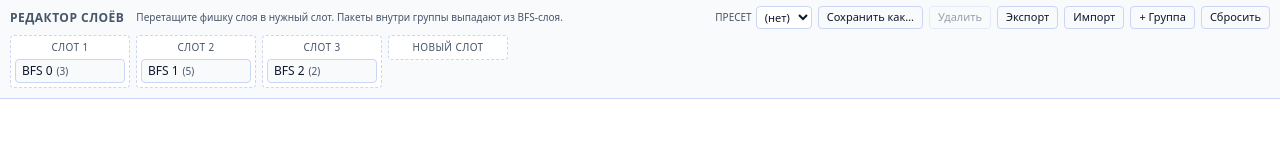
Test: <LayerEditorBar /> › adds a new folder group from the inline form
Click the button with test id "layer-editor-add" at {"x": 1163, "y": 18}, box [1130, 6, 1195, 29]
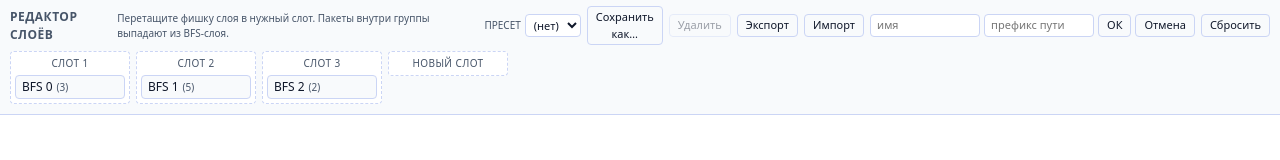
Type "DBs" into the field with test id "layer-editor-name" at {"x": 925, "y": 26}, box [870, 14, 980, 37]
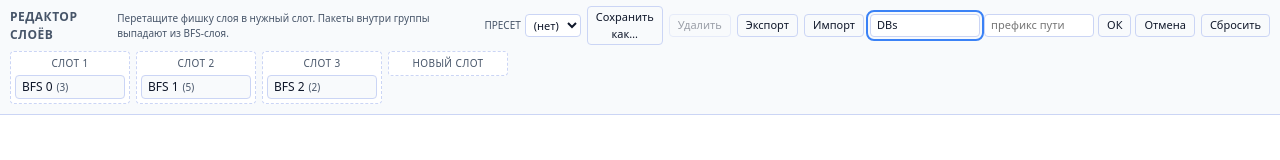
Type "databases" into the field with test id "layer-editor-prefix" at {"x": 1039, "y": 26}, box [984, 14, 1094, 37]
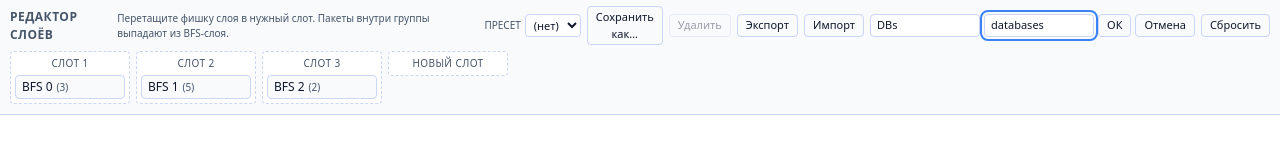
Click the button with test id "layer-editor-add-confirm" at {"x": 1115, "y": 26}, box [1098, 14, 1132, 37]
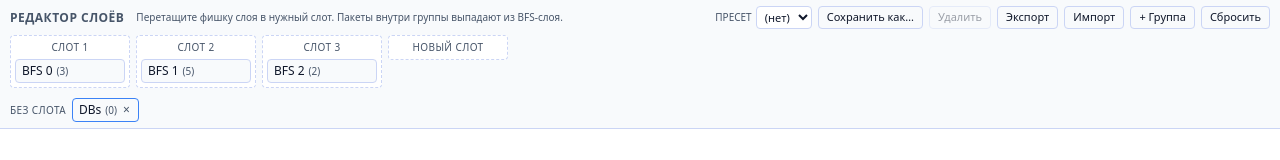
Now the element with test id "layer-editor-chip-folder:gx" is shown, box [72, 98, 139, 122]
